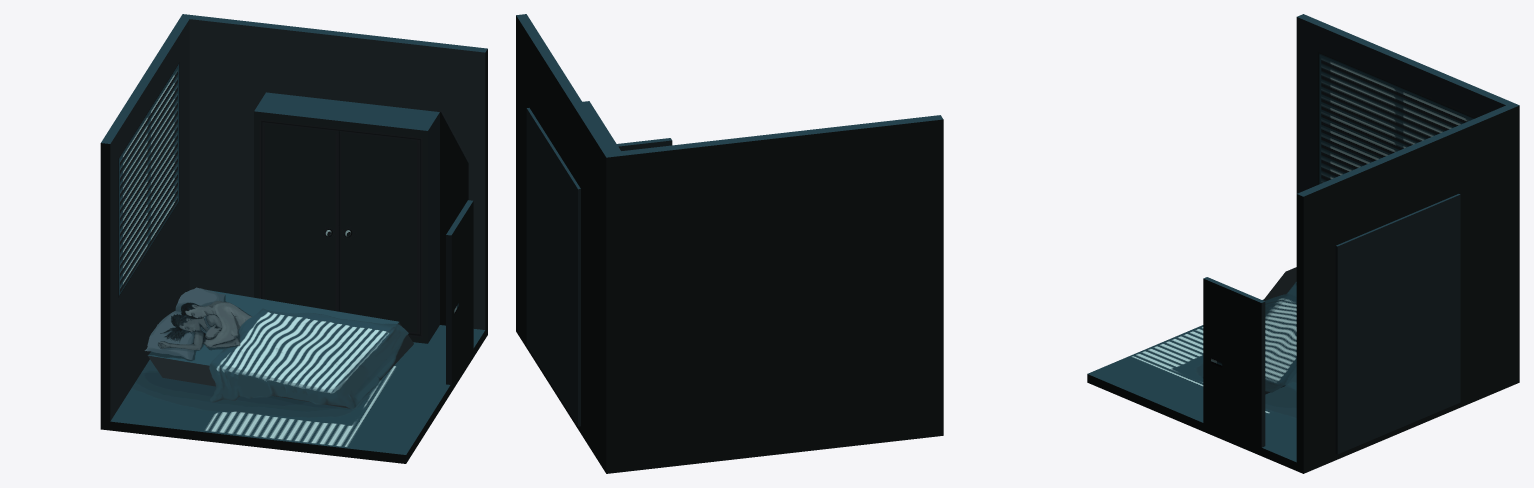
The model's file is day.dae.
The picture shows the model from 3 angles, left to right: view 1: azimuth 30°, elevation 25°; view 2: azimuth 150°, elevation 25°; view 3: azimuth 270°, elevation 25°; orthographic projection. The views are drawn at different scales.
Visible parts, largest first — view 1: Closet, wallR, bed, wallL, floor, outside, Door; view 2: outside, Closet; view 3: outside, Closet, wallL, Door, floor, bed.
Part boxes in pixels (x1,y1,x2,y2): Closet: [254, 92, 439, 343]; wallR: [189, 19, 485, 329]; bed: [144, 287, 413, 409]; wallL: [110, 19, 189, 420]; floor: [110, 325, 484, 454]; outside: [100, 14, 487, 463]; Door: [446, 200, 473, 384]; outside: [516, 14, 943, 473]; Closet: [526, 101, 620, 426]; outside: [1087, 14, 1519, 473]; Closet: [1335, 194, 1460, 454]; wallL: [1296, 17, 1505, 193]; Door: [1203, 277, 1265, 447]; floor: [1087, 299, 1296, 462]; bed: [1203, 267, 1296, 394].
Size of the model in its own units: 514 by 320 by 453.
9 materials, 6 textured.
